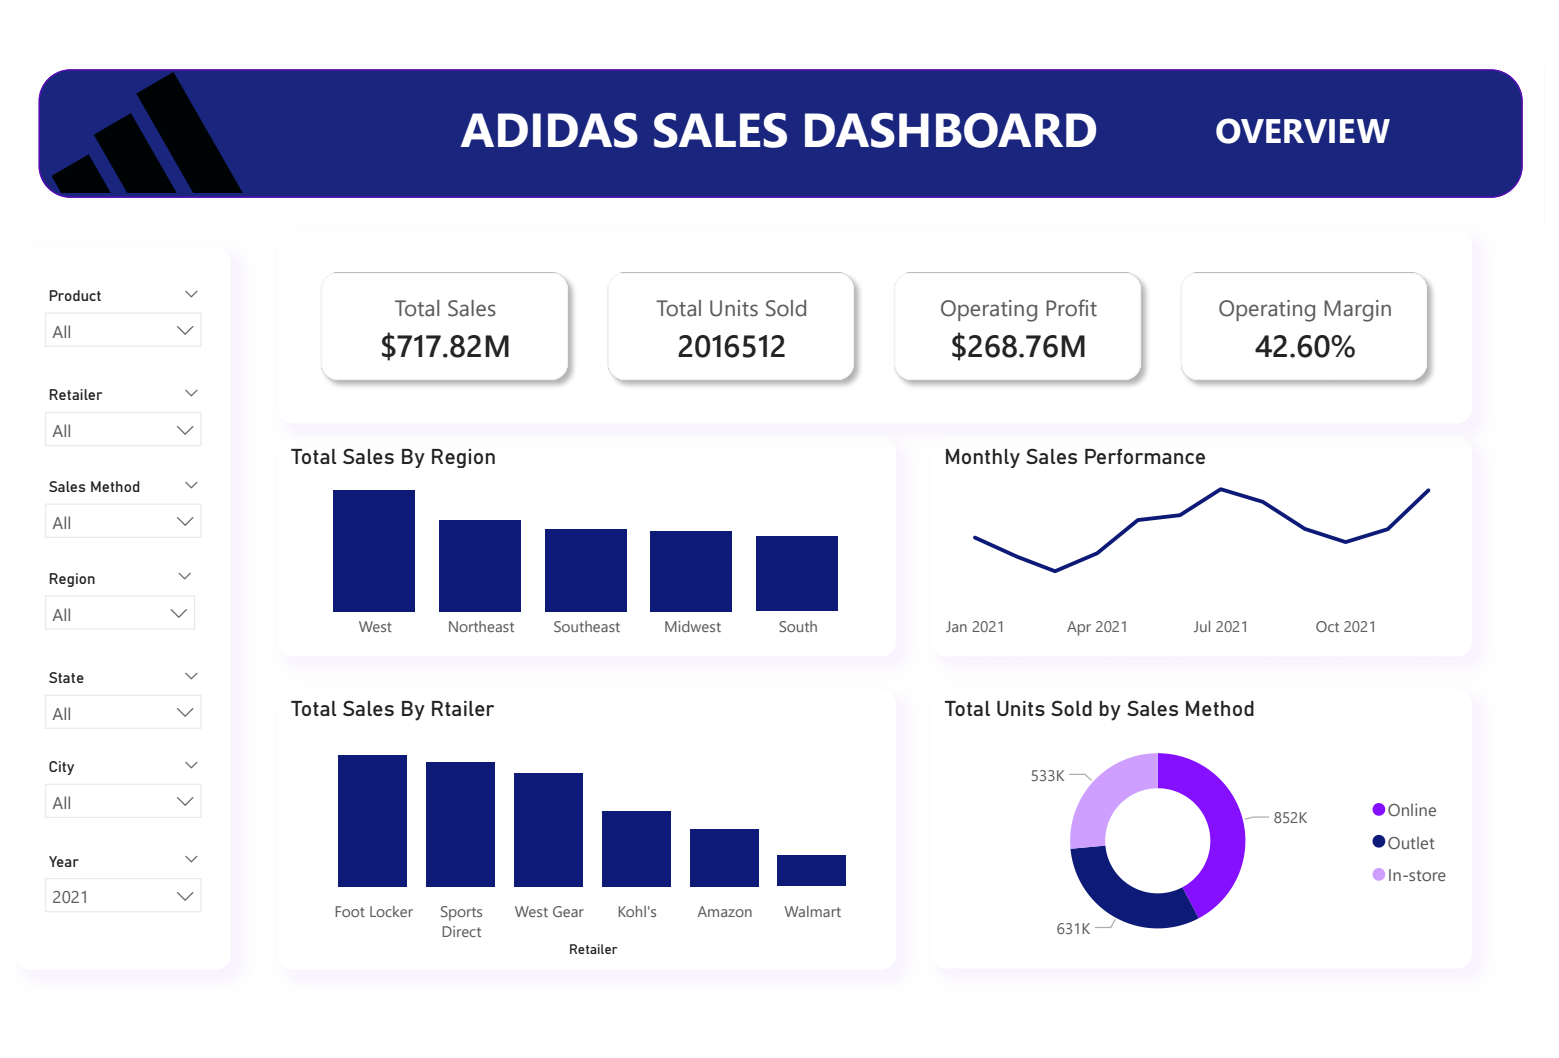

The dashboard page shown, as its layout file describes it:
{"tool":"powerbi","page":{"name":"OVERVIEW","canvas":[1200,800],"ordinal":0},"visuals":[{"type":"shape","box":[17.8,39.4,1165.3,100.5],"z":0},{"type":"cardVisual","fields":{"Data":["Calculated.Total Sales","Calculated.Unit Sold","Calculated.Operating Profit","Calculated.Operating Margin"]},"box":[206,165,937,152],"z":1000},{"type":"donutChart","title":"Total Units Sold by Sales Method","fields":{"Y":["Calculated.Unit Sold"],"Category":["Data Sales Adidas.Sales Method"]},"box":[719.4,526.1,423.8,219.2],"z":2000},{"type":"columnChart","title":"Total Sales By Rtailer","fields":{"Category":["Data Sales Adidas.Retailer"],"Y":["Calculated.Total Sales"]},"box":[205.6,525.8,485.4,220.7],"z":3000},{"type":"lineChart","title":"Monthly Sales Performance","fields":{"Category":["Data Sales Adidas.Invoice Date.Variation.Date Hierarchy.Year","Data Sales Adidas.Invoice Date.Variation.Date Hierarchy.Month"],"Y":["Calculated.Total Sales"]},"box":[719.4,328,423.8,172.1],"z":4000},{"type":"columnChart","title":"Total Sales By Region","fields":{"Y":["Calculated.Total Sales"],"Category":["Data Sales Adidas.Region"]},"box":[206,328,485,172],"z":5000},{"type":"shape","box":[0,178,169,568],"z":6000},{"type":"slicer","fields":{"Values":["Data Sales Adidas.Product"]},"box":[13,205,143,112],"z":7000},{"type":"slicer","fields":{"Values":["Data Sales Adidas.Retailer"]},"box":[13,282.7,143,107],"z":8000},{"type":"slicer","fields":{"Values":["Data Sales Adidas.Sales Method"]},"box":[13,355.3,143,106],"z":9000},{"type":"slicer","fields":{"Values":["Data Sales Adidas.Region"]},"box":[13,427,138,112],"z":10000},{"type":"slicer","fields":{"Values":["Data Sales Adidas.State"]},"box":[13,504.7,143,105],"z":11000},{"type":"slicer","fields":{"Values":["Data Sales Adidas.City"]},"box":[13,575.3,143,108],"z":12000},{"type":"image","box":[28.2,36.6,150.2,103.3],"z":13000},{"type":"textbox","box":[288.3,55.4,622.5,69.5],"z":14000},{"type":"textbox","box":[877.9,62.9,264.8,54.5],"z":15000},{"type":"slicer","fields":{"Values":["Data Sales Adidas.Invoice Date.Variation.Date Hierarchy.Year"]},"box":[13,649,143,85],"z":16000}]}

Visuals, with their boxes in screenshot pixels (x1, y1, x2, y2), scaled from the page's 1200x800 canvas onto the 1559x1058 screenshot:
shape: region(23, 52, 1537, 185)
cardVisual - Calculated.Total Sales x Calculated.Unit Sold: region(268, 218, 1485, 419)
"Total Units Sold by Sales Method" donutChart: region(935, 696, 1485, 986)
"Total Sales By Rtailer" columnChart: region(267, 695, 898, 987)
"Monthly Sales Performance" lineChart: region(935, 434, 1485, 661)
"Total Sales By Region" columnChart: region(268, 434, 898, 661)
shape: region(0, 235, 220, 987)
slicer - Data Sales Adidas.Product: region(17, 271, 203, 419)
slicer - Data Sales Adidas.Retailer: region(17, 374, 203, 515)
slicer - Data Sales Adidas.Sales Method: region(17, 470, 203, 610)
slicer - Data Sales Adidas.Region: region(17, 565, 196, 713)
slicer - Data Sales Adidas.State: region(17, 667, 203, 806)
slicer - Data Sales Adidas.City: region(17, 761, 203, 904)
image: region(37, 48, 232, 185)
textbox: region(375, 73, 1183, 165)
textbox: region(1141, 83, 1485, 155)
slicer - Data Sales Adidas.Invoice Date.Variation.Date Hierarchy.Year: region(17, 858, 203, 971)
